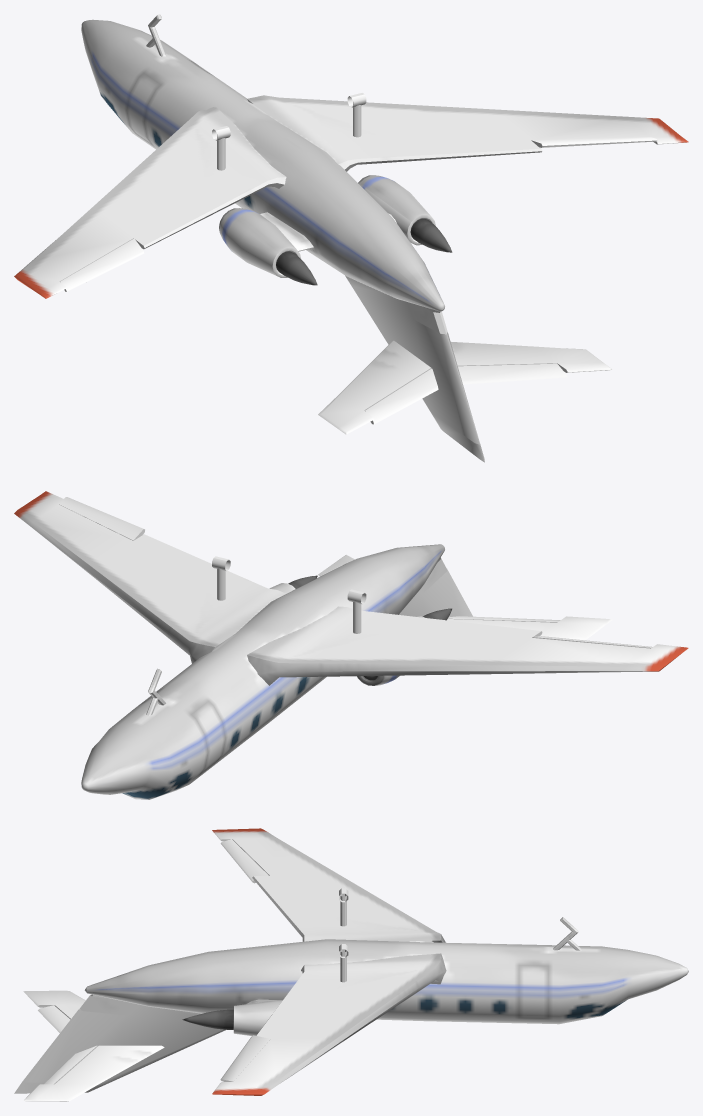
3 renders of one model, top to bottom at view 1: azimuth 30°, elevation 25°; view 2: azimuth 150°, elevation 25°; view 3: azimuth 270°, elevation 25°, orthographic. The views are drawn at different scales.
Parts seen in each view (by area): view 1: AirPlane; view 2: AirPlane; view 3: AirPlane.
Part boxes in pixels (x1,y1,x2,y2): AirPlane: [14, 14, 688, 462]; AirPlane: [14, 491, 688, 799]; AirPlane: [14, 828, 688, 1101].
Size of the model in its own units: 294 by 91.41 by 317.
